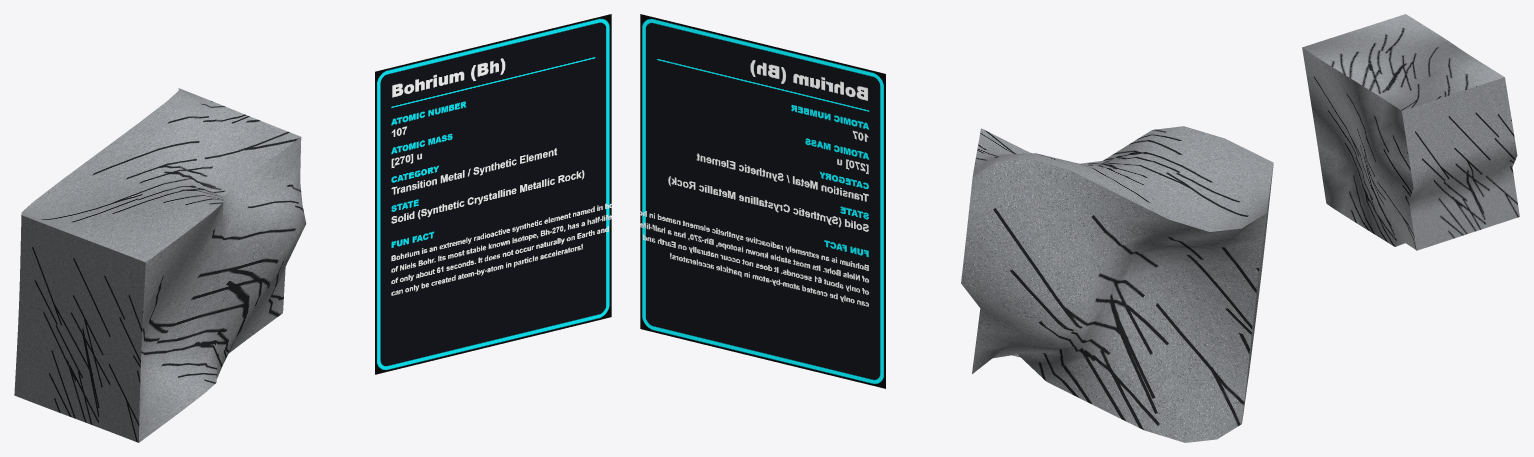
Rendered from bohrium.glb.
3 views of the same model, side by side, from view 1: azimuth 30°, elevation 25°; view 2: azimuth 150°, elevation 25°; view 3: azimuth 270°, elevation 25° (orthographic). The views are drawn at different scales.
Visible parts, largest first — view 1: Mesh_0, Mesh_4; view 2: Mesh_4, Mesh_0; view 3: Mesh_0.
Boxes of the visible parts, x1,y1,x2,y2 form: Mesh_0: (14, 88, 306, 442); Mesh_4: (375, 14, 611, 374); Mesh_4: (640, 14, 885, 388); Mesh_0: (961, 126, 1273, 442); Mesh_0: (1302, 14, 1519, 250).
Bounding box in the file's own units: 2.88 × 1.4 × 1.15.
2 materials, 2 textured.
